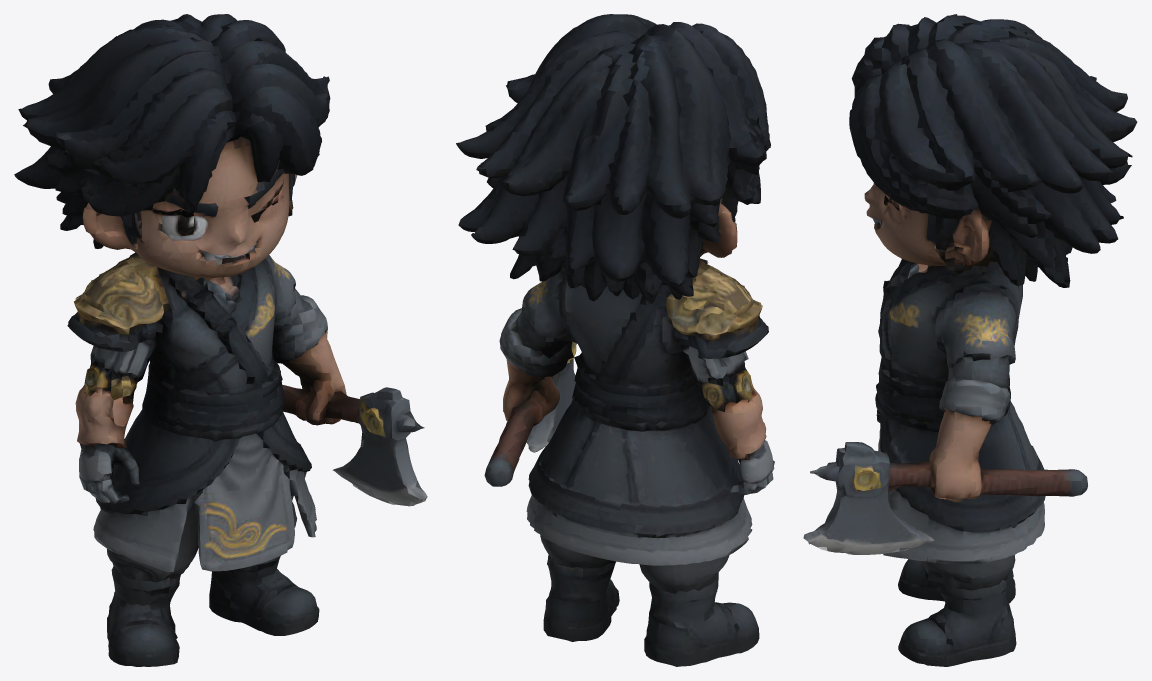
Rendered from saber.glb.
3 renders of one model, left to right at view 1: azimuth 30°, elevation 25°; view 2: azimuth 150°, elevation 25°; view 3: azimuth 270°, elevation 25°, orthographic. The views are drawn at different scales.
Size of the model in its own units: 1.32 by 2.7 by 1.38.
1 material, 1 textured.
